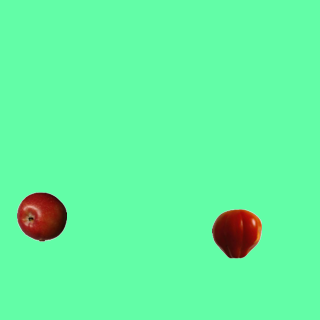Apple Braeburn: (16, 191, 66, 241)
Tomato 1: (211, 208, 261, 258)
